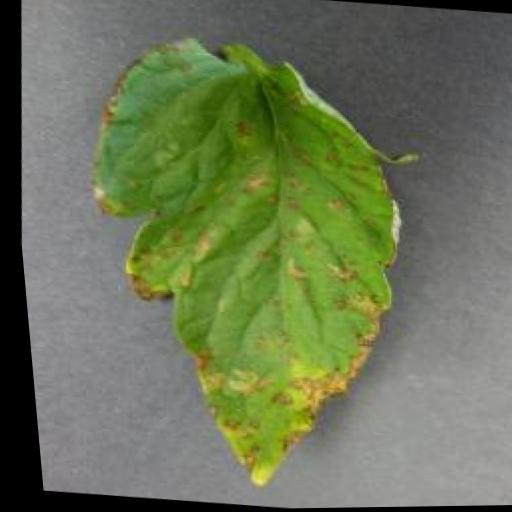Bacterial Spot: (51, 19, 436, 510)
